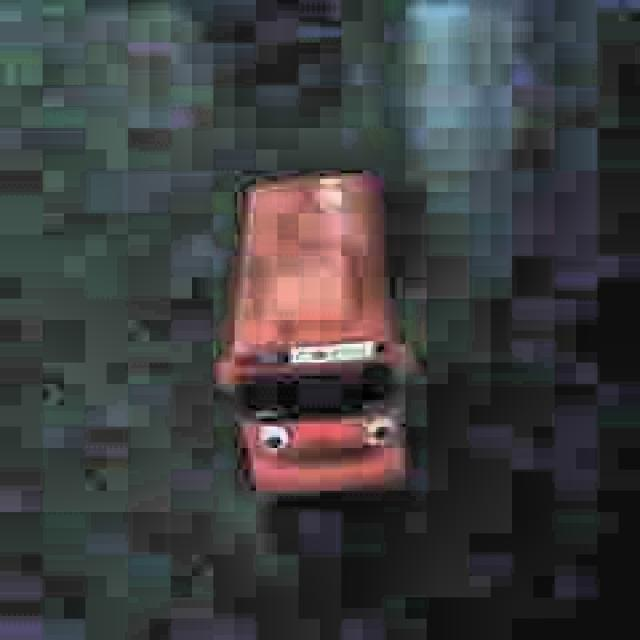bus: (212, 158, 423, 508)
